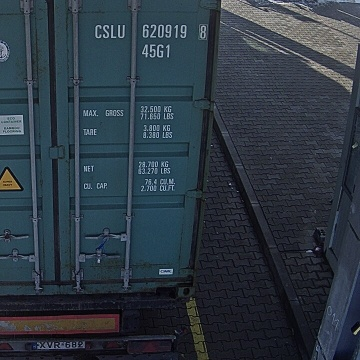serial_id: (95, 24, 207, 39)
